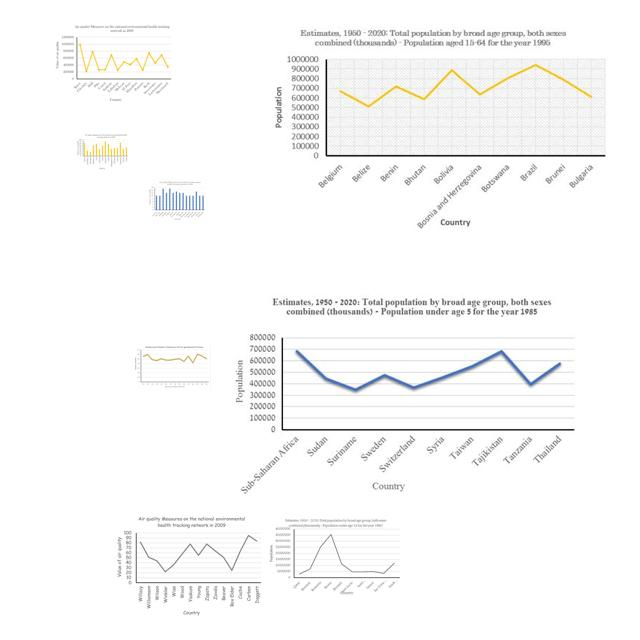Graph: (224, 294, 581, 500), (263, 21, 612, 229), (113, 513, 264, 618), (269, 517, 402, 596), (54, 23, 173, 103), (133, 344, 211, 390), (148, 180, 206, 222), (76, 133, 129, 170)
